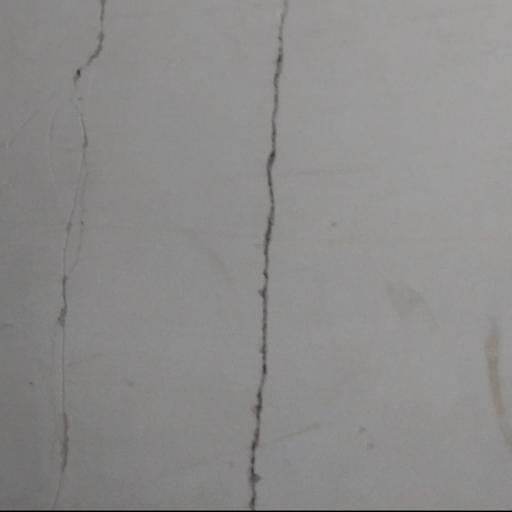minor_crack: (48, 0, 95, 512), (242, 0, 284, 512)
